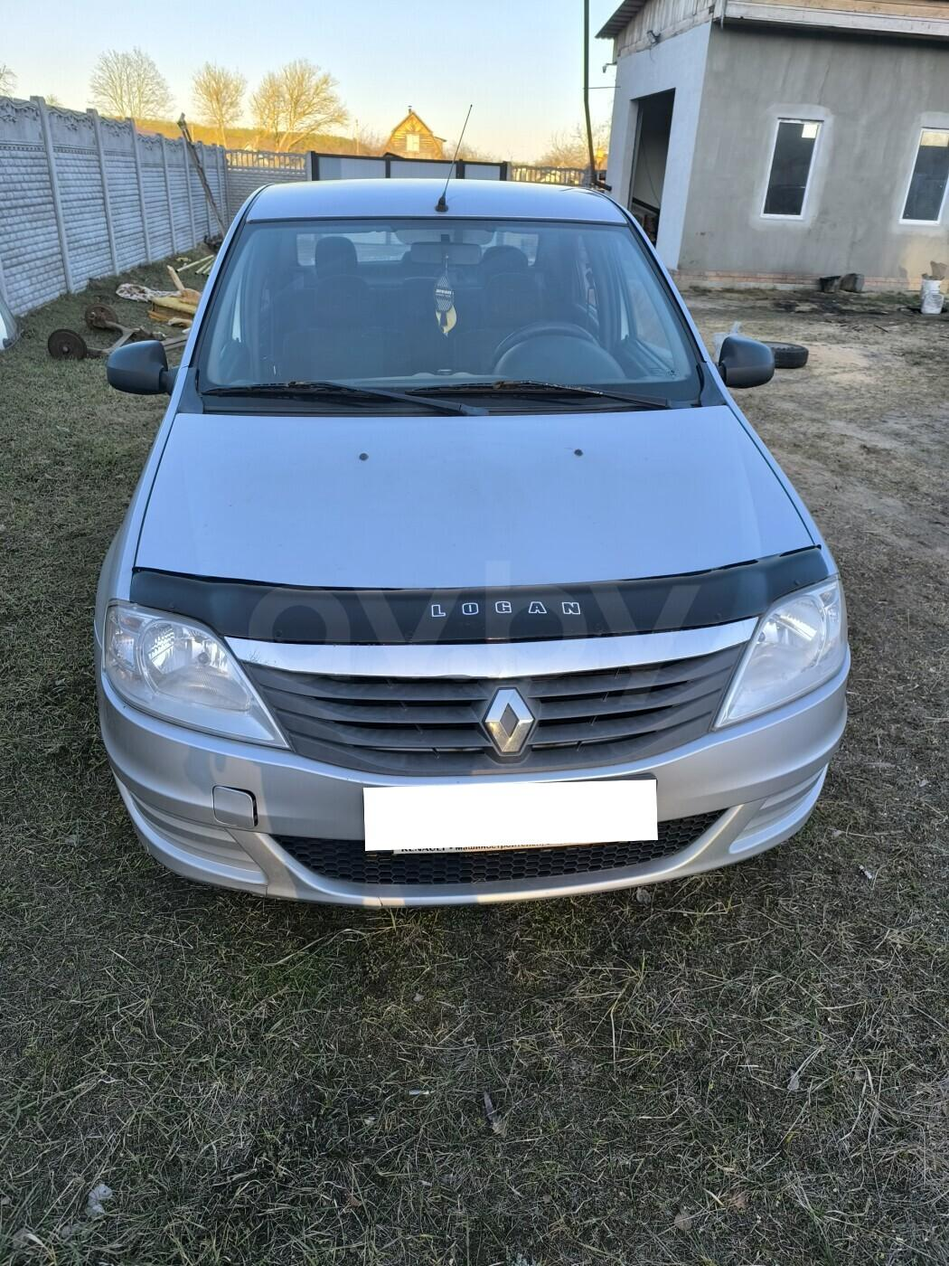Logan_2008-2015: (90, 177, 857, 910)
